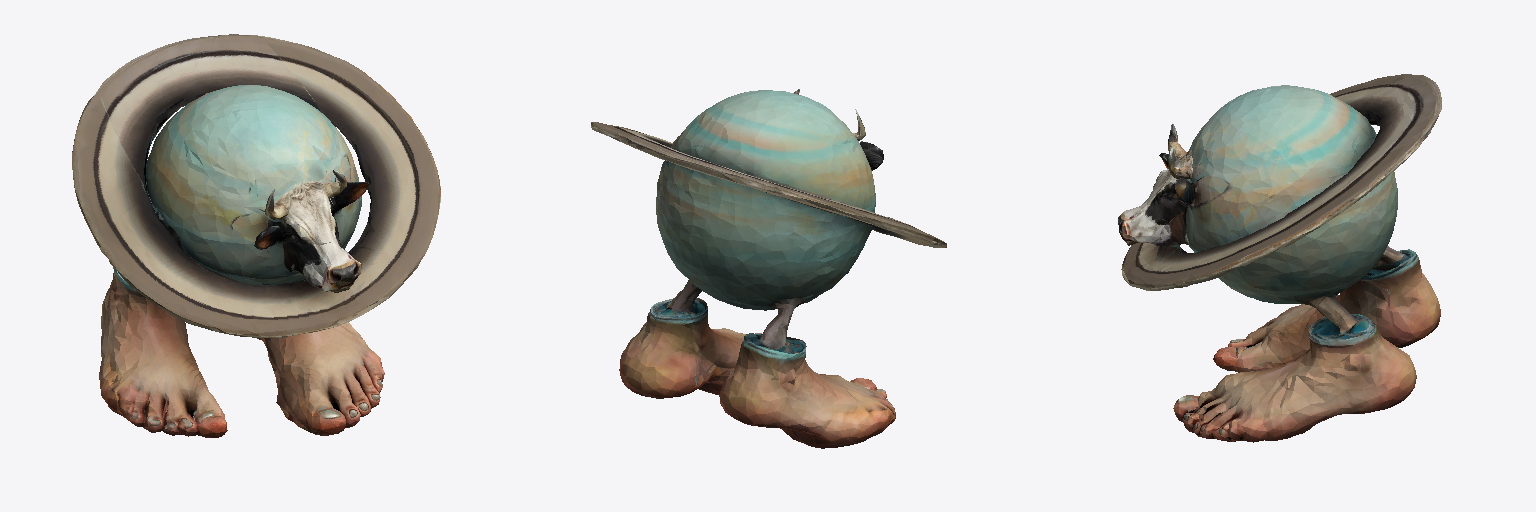
3 views of the same model, side by side, from view 1: azimuth 30°, elevation 25°; view 2: azimuth 150°, elevation 25°; view 3: azimuth 270°, elevation 25° (orthographic).
Visible parts, largest first — view 1: Cowtellite_[number redacted]_texture; view 2: Cowtellite_[number redacted]_texture; view 3: Cowtellite_[number redacted]_texture.
Part boxes in pixels (x1,y1,x2,y2): Cowtellite_[number redacted]_texture: (72,34,440,437); Cowtellite_[number redacted]_texture: (591,89,946,448); Cowtellite_[number redacted]_texture: (1118,74,1441,442).
Size of the model in its own units: 2 by 1.88 by 1.75.
1 materials, 1 textured.